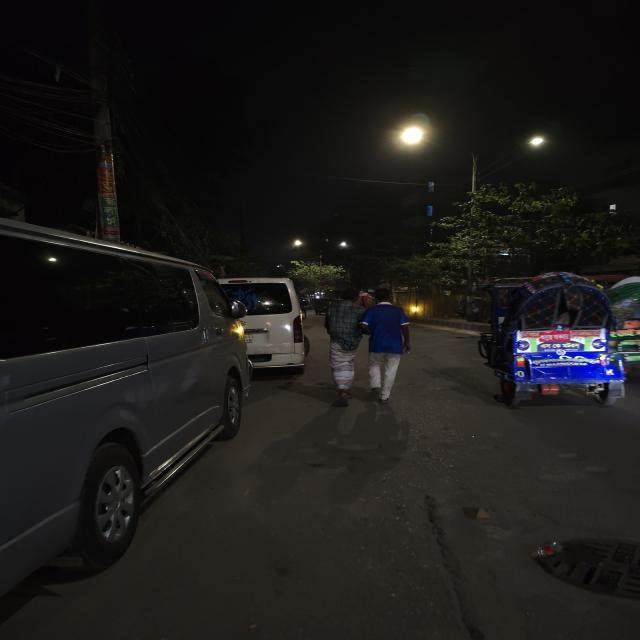car: (9, 212, 230, 558), (224, 274, 312, 380)
pedestrian: (357, 287, 421, 405), (320, 287, 366, 407)
rickshaw: (477, 265, 630, 409), (590, 265, 640, 379)
